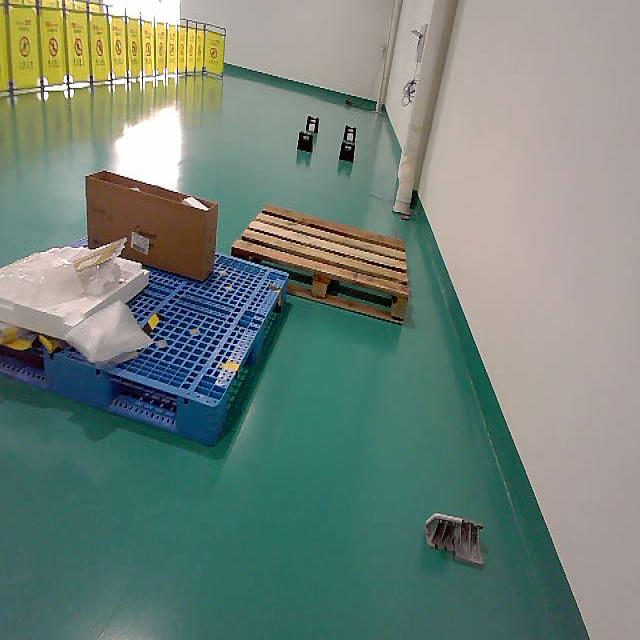euro: (231, 205, 407, 324)
